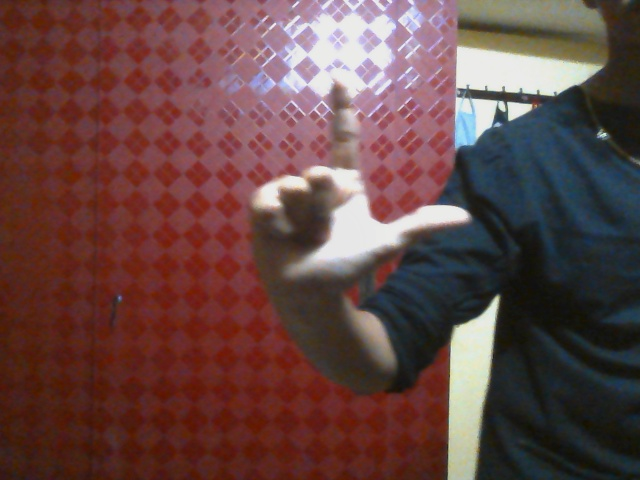L: (252, 72, 472, 287)
